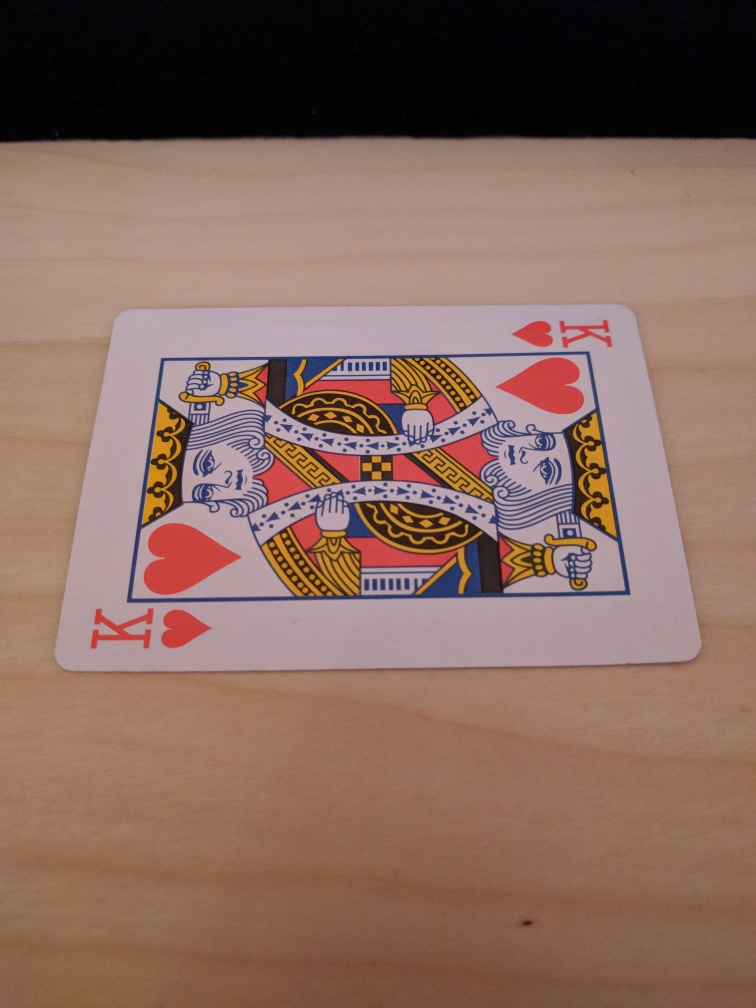king: (53, 301, 704, 672)
